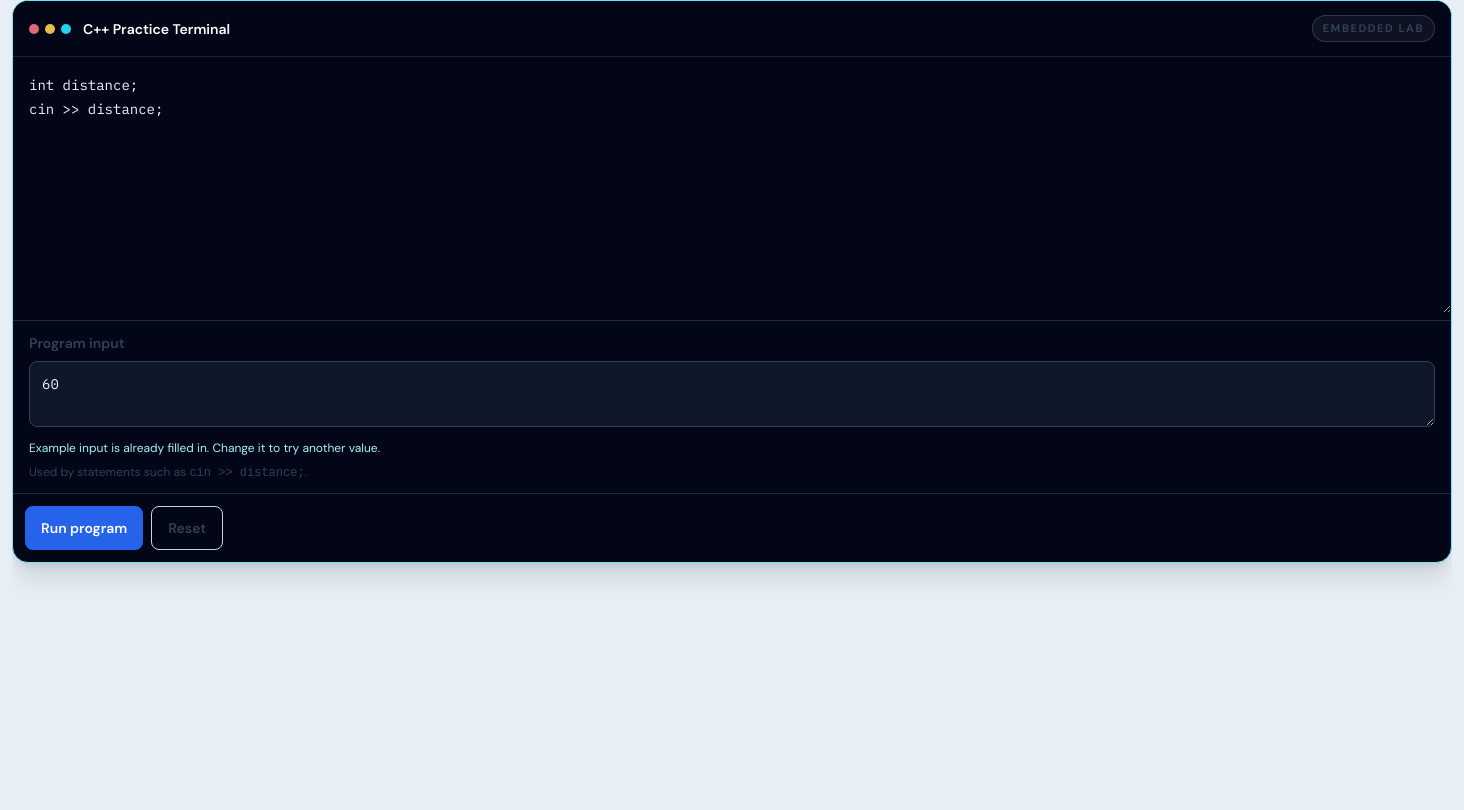
Scenario: C++ practice terminal › prefills example input and restores it when reset is pressed
The width and height of the screenshot is (1464, 810).
Expected: the text "Example input is already filled in" is shown, [29, 440, 380, 456]
Replace the text in the text box labelled "Program input" with "120": (732, 394) [29, 361, 1435, 427]
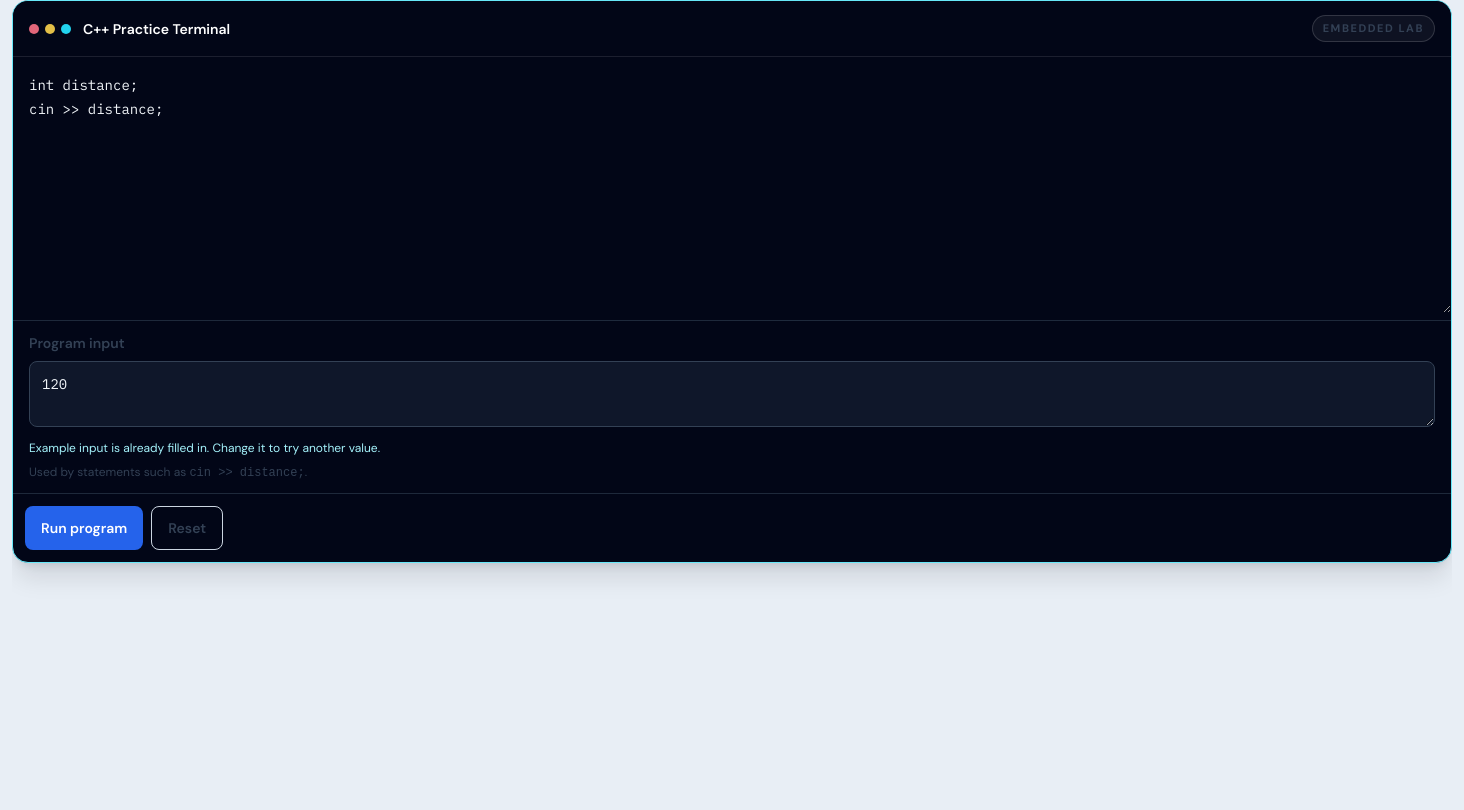
Click the button "Reset": (187, 528) [151, 506, 223, 550]
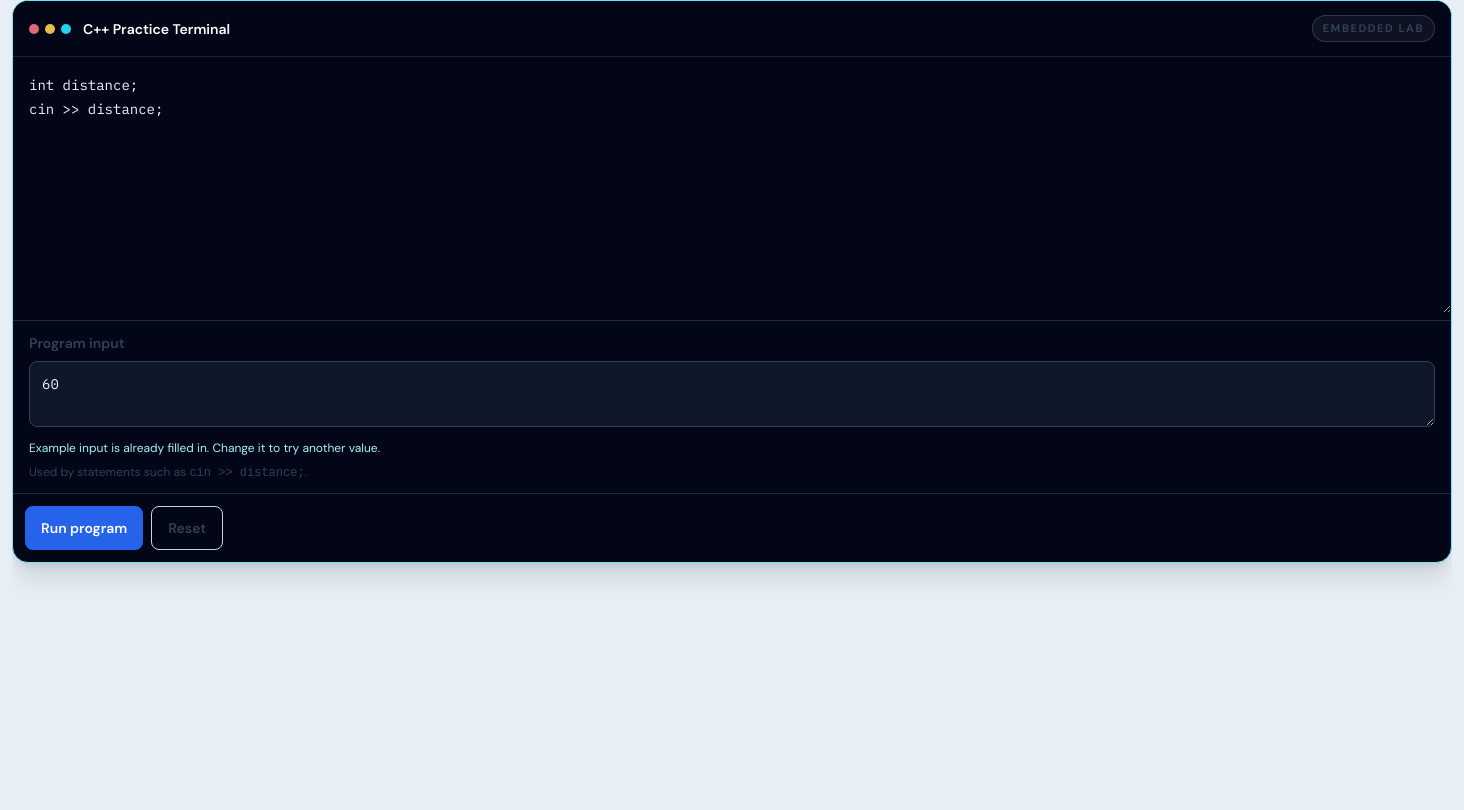
Result: the text box labelled "Program input" holds "60" at [29, 361, 1435, 427]
